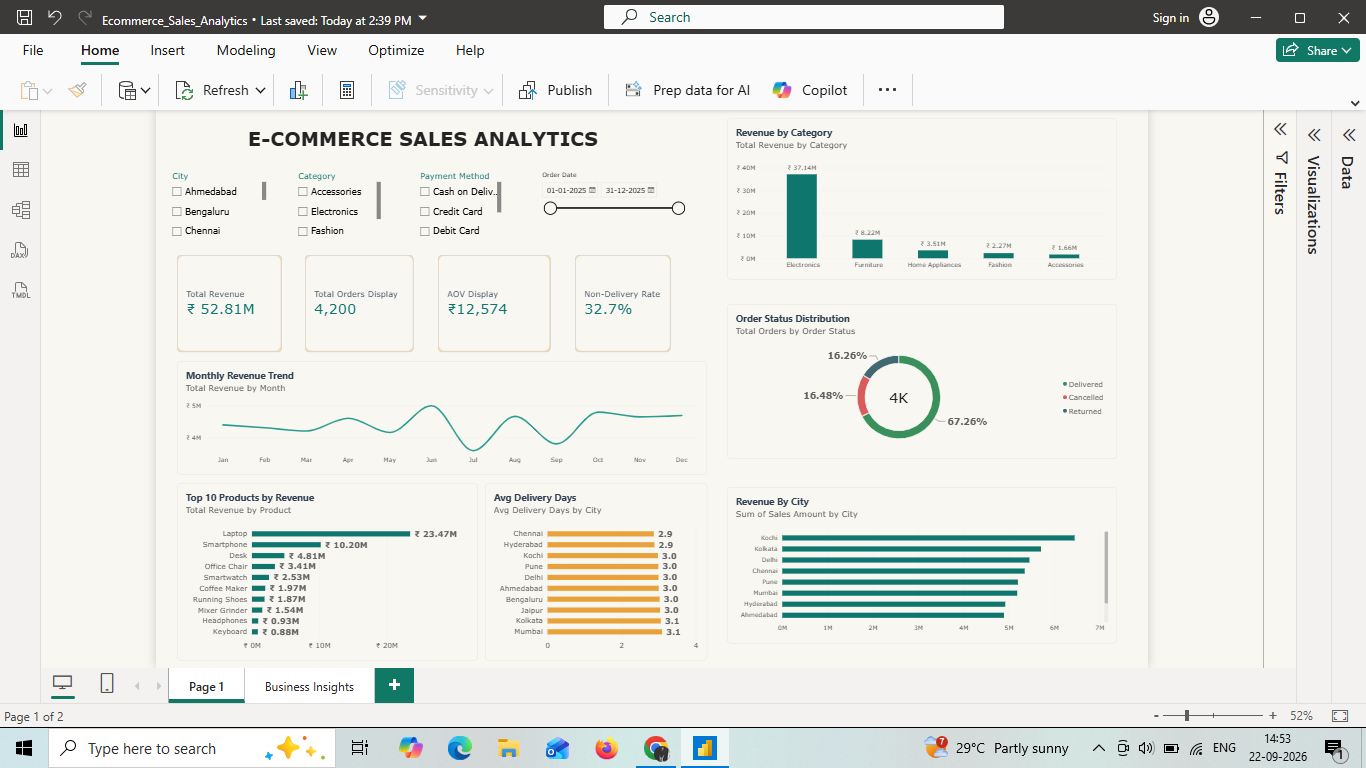

The dashboard page shown, as its layout file describes it:
{"tool":"powerbi","page":{"name":"Page 1","canvas":[1920,1080],"ordinal":0},"visuals":[{"type":"clusteredBarChart","title":"Revenue By City","fields":{"Category":["ecommerce_sales_cleaned.City"],"Y":["Sum(ecommerce_sales_cleaned.Sales Amount)"]},"box":[1105,730,755,302.5],"z":0},{"type":"cardVisual","fields":{"Data":["ecommerce_sales_cleaned.Total Revenue"]},"box":[40,280,202.5,187.5],"z":1000},{"type":"cardVisual","fields":{"Data":["ecommerce_sales_cleaned.Total Orders Display"]},"box":[289.2,280,210,187.5],"z":2000},{"type":"cardVisual","fields":{"Data":["ecommerce_sales_cleaned.AOV Display"]},"box":[545.8,280,217.5,187.5],"z":3000},{"type":"cardVisual","fields":{"Data":["ecommerce_sales_cleaned.Non-Delivery Rate"]},"box":[810,280,185,187.5],"z":4000},{"type":"textbox","box":[902,0,164,796],"z":5000},{"type":"textbox","box":[177.5,30,740,47.5],"z":6000},{"type":"lineChart","title":"Monthly Revenue Trend","fields":{"Category":["ecommerce_sales_cleaned.Month"],"Y":["ecommerce_sales_cleaned.Total Revenue"]},"box":[40,486,1026,220],"z":7000},{"type":"clusteredColumnChart","title":"Revenue by Category","fields":{"Category":["ecommerce_sales_cleaned.Category"],"Y":["ecommerce_sales_cleaned.Total Revenue"]},"box":[1105,15,755,312.5],"z":8000},{"type":"clusteredBarChart","title":"Top 10 Products by Revenue","fields":{"Category":["ecommerce_sales_cleaned.Product"],"Y":["ecommerce_sales_cleaned.Total Revenue"]},"box":[40,722,582,344],"z":9000},{"type":"donutChart","title":"Order Status Distribution","fields":{"Category":["ecommerce_sales_cleaned.Order Status"],"Y":["ecommerce_sales_cleaned.Total Orders"]},"box":[1105,375,755,300],"z":10000},{"type":"clusteredBarChart","title":"Avg Delivery Days","fields":{"Category":["ecommerce_sales_cleaned.City"],"Y":["ecommerce_sales_cleaned.Avg Delivery Days"]},"box":[636,722,430,344],"z":11000},{"type":"slicer","fields":{"Values":["ecommerce_sales_cleaned.City"]},"box":[22.5,117.5,190,137.5],"z":12000},{"type":"slicer","fields":{"Values":["ecommerce_sales_cleaned.Category"]},"box":[267.5,117.5,168.3,138.3],"z":13000},{"type":"slicer","fields":{"Values":["ecommerce_sales_cleaned.Payment Method"]},"box":[502.5,117.5,165,137.5],"z":14000},{"type":"slicer","fields":{"Values":["ecommerce_sales_cleaned.Order Date"]},"box":[740,117.5,287.5,137.5],"z":15000}]}

Visuals, with their boxes on the page's 1920x1080 design canvas (x1, y1, x2, y2). These are canvas units, not pixel positions in the 1366x768 screenshot, which may show the page scaled, cropped or inside an application window:
"Revenue By City" clusteredBarChart: box(1105, 730, 1860, 1032)
cardVisual - ecommerce_sales_cleaned.Total Revenue: box(40, 280, 242, 468)
cardVisual - ecommerce_sales_cleaned.Total Orders Display: box(289, 280, 499, 468)
cardVisual - ecommerce_sales_cleaned.AOV Display: box(546, 280, 763, 468)
cardVisual - ecommerce_sales_cleaned.Non-Delivery Rate: box(810, 280, 995, 468)
textbox: box(902, 0, 1066, 796)
textbox: box(178, 30, 918, 78)
"Monthly Revenue Trend" lineChart: box(40, 486, 1066, 706)
"Revenue by Category" clusteredColumnChart: box(1105, 15, 1860, 328)
"Top 10 Products by Revenue" clusteredBarChart: box(40, 722, 622, 1066)
"Order Status Distribution" donutChart: box(1105, 375, 1860, 675)
"Avg Delivery Days" clusteredBarChart: box(636, 722, 1066, 1066)
slicer - ecommerce_sales_cleaned.City: box(22, 118, 212, 255)
slicer - ecommerce_sales_cleaned.Category: box(268, 118, 436, 256)
slicer - ecommerce_sales_cleaned.Payment Method: box(502, 118, 668, 255)
slicer - ecommerce_sales_cleaned.Order Date: box(740, 118, 1028, 255)
